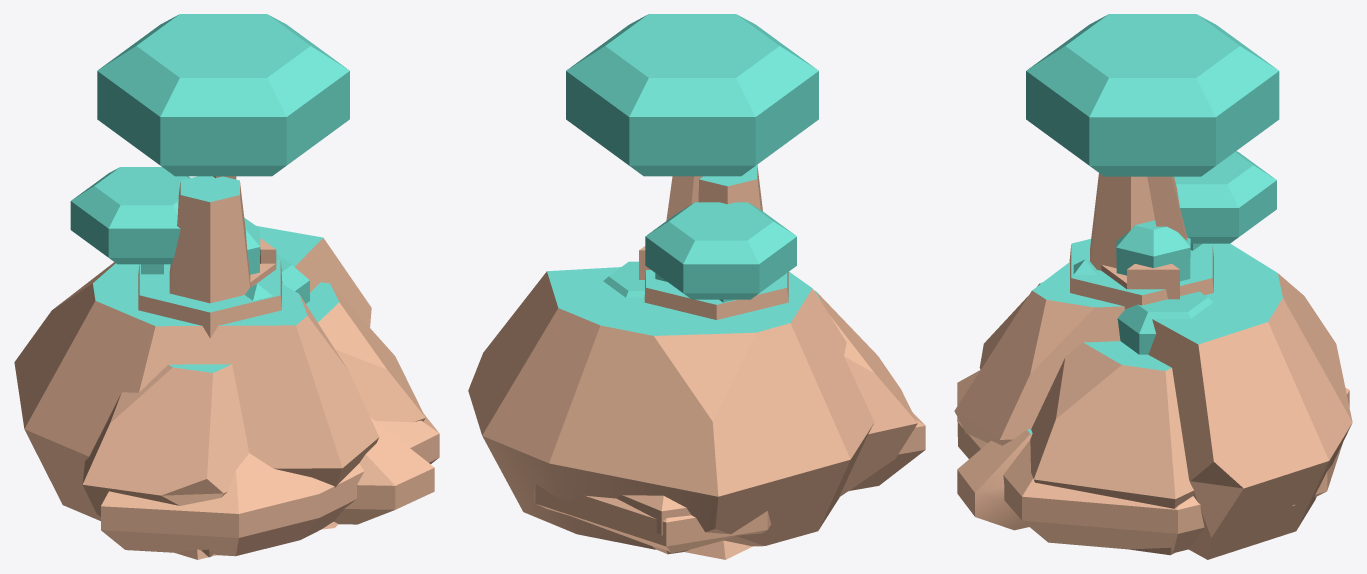
The model's file is nature.glb.
3 views of the same model, side by side, from view 1: azimuth 30°, elevation 25°; view 2: azimuth 150°, elevation 25°; view 3: azimuth 270°, elevation 25° (orthographic).
Visible parts, largest first — view 1: rock_largeD, tree_plateau, rock_largeF, rock_largeC, rock_tallB, rock_largeA, cactus_tall, stump_oldTall; view 2: rock_largeD, tree_plateau, rock_largeF, rock_tallB, rock_largeA, rock_largeC; view 3: rock_largeD, tree_plateau, rock_largeF, rock_largeC, rock_tallB, rock_largeA, cactus_tall, stump_oldTall.
Boxes of the visible parts, x1,y1,x2,y2 form: rock_largeD: (14,226,379,520); tree_plateau: (70,14,349,303); rock_largeF: (82,282,425,557); rock_largeC: (101,414,439,556); rock_tallB: (138,176,338,559); rock_largeA: (334,417,434,524); cactus_tall: (141,218,272,300); stump_oldTall: (250,238,276,286); rock_largeD: (468,267,874,549); tree_plateau: (566,14,818,299); rock_largeF: (814,290,917,497); rock_tallB: (644,164,850,559); rock_largeA: (534,484,771,552); rock_largeC: (617,412,925,554); rock_largeD: (954,243,1352,559); tree_plateau: (1026,14,1279,354); rock_largeF: (979,282,1193,555); rock_largeC: (957,370,1349,552); rock_tallB: (1069,173,1213,309); rock_largeA: (957,429,1342,530); cactus_tall: (1073,220,1202,281); stump_oldTall: (1101,264,1179,299).
Size of the model in its own units: 1.1 by 1.25 by 1.03.
